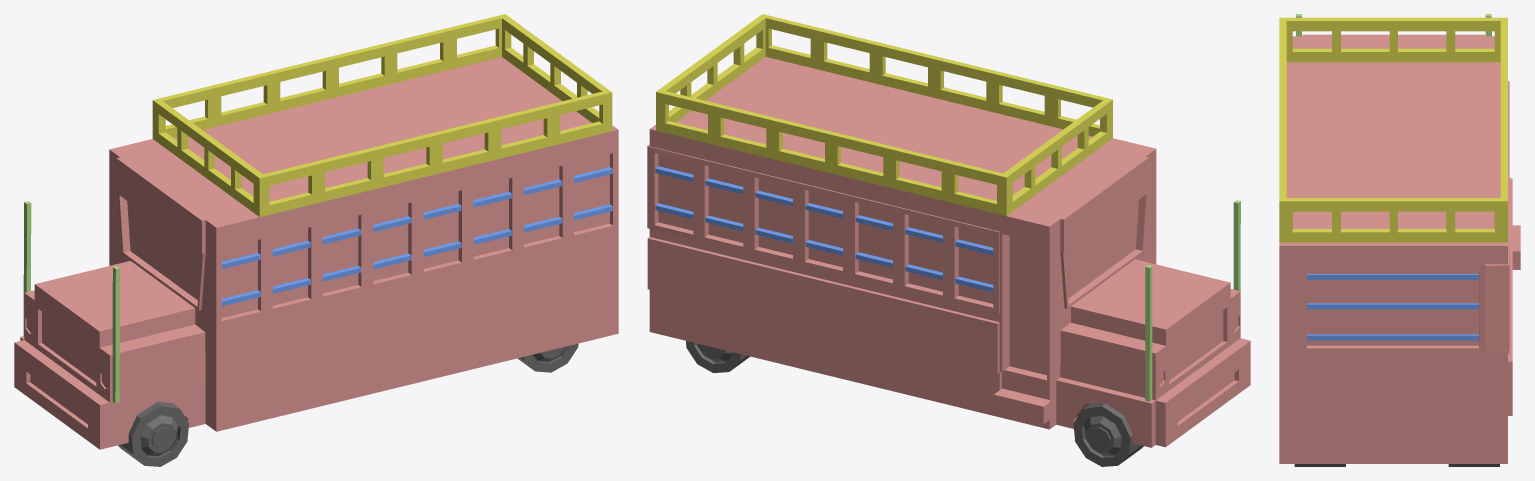
File: Chiva.fbx
3 views of the same model, side by side, from view 1: azimuth 30°, elevation 25°; view 2: azimuth 150°, elevation 25°; view 3: azimuth 270°, elevation 25° (orthographic). The views are drawn at different scales.
Visible parts, largest first — view 1: cuerpo, baranda, llantas, barra3, barra4, barra2.002, llantas2, barra2.001; view 2: cuerpo, baranda, llantas, barra2, barra1, llantas2, barra2.001, barra2.002; view 3: cuerpo, baranda, barra6, barra7, barra5, llantas2.
Boxes of the visible parts, left/top/right/bottom form: cuerpo: left=14, top=57, right=618, bottom=449; baranda: left=152, top=14, right=612, bottom=217; llantas: left=118, top=401, right=188, bottom=466; barra3: left=222, top=167, right=612, bottom=268; barra4: left=222, top=204, right=612, bottom=306; barra2.002: left=112, top=266, right=119, bottom=403; llantas2: left=517, top=343, right=578, bottom=372; barra2.001: left=23, top=201, right=31, bottom=336; cuerpo: left=647, top=57, right=1250, bottom=447; baranda: left=656, top=14, right=1112, bottom=215; llantas: left=1073, top=402, right=1143, bottom=466; barra2: left=655, top=203, right=993, bottom=292; barra1: left=655, top=166, right=993, bottom=255; llantas2: left=686, top=341, right=749, bottom=372; barra2.001: left=1145, top=265, right=1152, bottom=401; barra2.002: left=1233, top=200, right=1240, bottom=290; cuerpo: left=1279, top=34, right=1520, bottom=463; baranda: left=1279, top=17, right=1507, bottom=242; barra6: left=1307, top=303, right=1478, bottom=309; barra7: left=1307, top=334, right=1478, bottom=340; barra5: left=1307, top=274, right=1478, bottom=279; llantas2: left=1294, top=464, right=1499, bottom=466.
Bounding box in the file's own units: 5.5 × 2.8 × 2.11.
